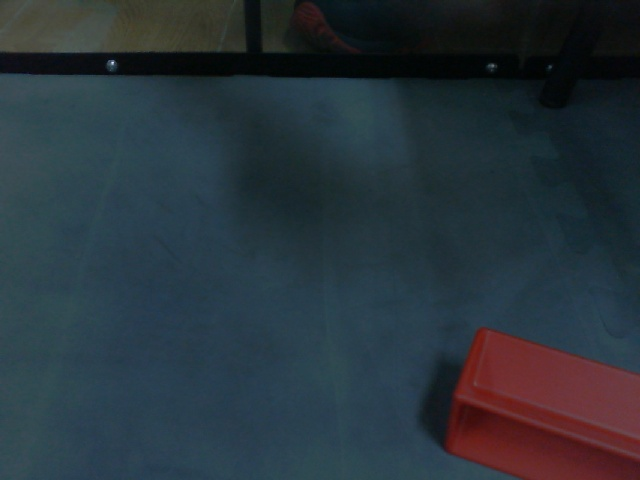RedSample: (439, 323, 640, 479)
